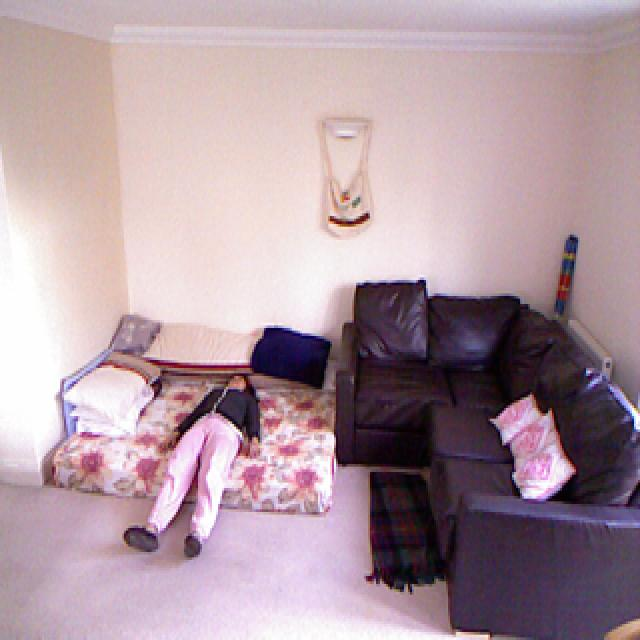lying: (128, 360, 260, 564)
